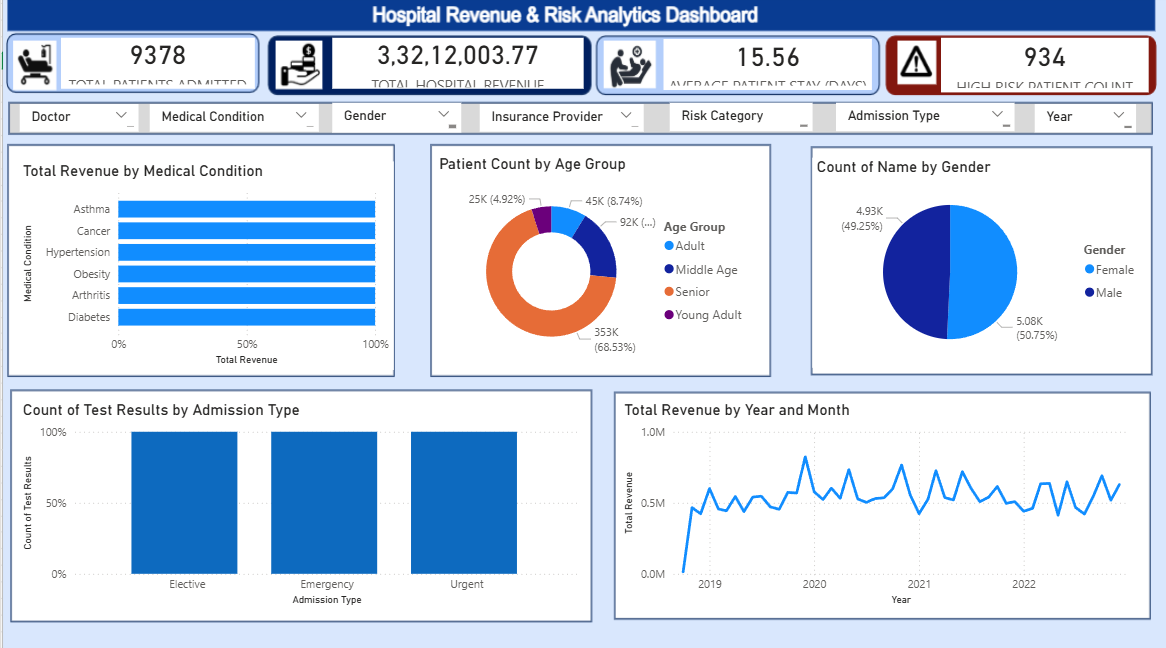

What the dashboard file says about the page in this screenshot:
{"tool":"powerbi","page":{"name":" Hospital Revenue & Risk Analytics Project _Dashboard","canvas":[1280,720],"ordinal":0},"visuals":[{"type":"card","fields":{"Values":["Count(Hospital_cleaned_dataset.  Name)"]},"box":[65.9,48,212.7,56.3],"z":0},{"type":"card","fields":{"Values":["Sum(Hospital_cleaned_dataset. Revenue Per Day)"]},"box":[363.6,48,275.8,56.3],"z":1000},{"type":"card","fields":{"Values":["Avg(Hospital_cleaned_dataset. Length of Stay)"]},"box":[727.3,49.4,229.2,56.3],"z":2000},{"type":"card","fields":{"Values":["Count(Hospital_cleaned_dataset)"]},"box":[1031.9,48,227.8,60.4],"z":3000},{"type":"slicer","fields":{"Values":["Hospital_cleaned_dataset.Doctor"]},"box":[20.6,120.8,130.4,30.2],"z":4000},{"type":"slicer","fields":{"Values":["Hospital_cleaned_dataset.Medical Condition"]},"box":[163.3,120.8,185.2,30.2],"z":5000},{"type":"slicer","fields":{"Values":["Hospital_cleaned_dataset.Gender"]},"box":[363.6,119.4,141.3,32.9],"z":6000},{"type":"slicer","fields":{"Values":["Hospital_cleaned_dataset.Insurance Provider"]},"box":[525.6,120.8,179.8,30.2],"z":7000},{"type":"slicer","fields":{"Values":["Hospital_cleaned_dataset.Risk Category"]},"box":[734.1,119.4,156.4,31.6],"z":8000},{"type":"slicer","fields":{"Values":["Hospital_cleaned_dataset.Admission Type"]},"box":[916.6,119.4,196.2,31.6],"z":9000},{"type":"hundredPercentStackedBarChart","fields":{"Category":["Hospital_cleaned_dataset.Medical Condition"],"Y":["Sum(Hospital_cleaned_dataset. Revenue Per Day)"]},"box":[19.2,183.9,411.7,229.2],"z":10000},{"type":"donutChart","fields":{"Category":["Hospital_cleaned_dataset.Age Group"],"Y":["Sum(Hospital_cleaned_dataset.Age)"]},"box":[476.2,175.6,351.3,237.4],"z":11000},{"type":"pieChart","fields":{"Category":["Hospital_cleaned_dataset.Gender"],"Y":["CountNonNull(Hospital_cleaned_dataset.  Name)"]},"box":[890.6,179.8,369.1,230.5],"z":12000},{"type":"hundredPercentStackedColumnChart","fields":{"Y":["CountNonNull(Hospital_cleaned_dataset.Test Results)"],"Category":["Hospital_cleaned_dataset.Admission Type"]},"box":[19.2,446,620.2,230.5],"z":13000},{"type":"lineChart","fields":{"Category":["Query1.Calender.Variation.Date Hierarchy.Year","Query1.Calender.Variation.Date Hierarchy.Month"],"Y":["Sum(Hospital_cleaned_dataset. Revenue Per Day)"]},"box":[679.2,446,566.7,230.5],"z":14000},{"type":"slicer","fields":{"Values":["Query1.Calender.Variation.Date Hierarchy.Year"]},"box":[1134.8,120.8,111.1,31.6],"z":15000}]}

Visuals, with their boxes in screenshot pixels (x1, y1, x2, y2), scaled from the page's 1280x720 canvas onto the 1166x648 screenshot:
card - Count(Hospital_cleaned_dataset.  Name): Rect(60, 43, 254, 94)
card - Sum(Hospital_cleaned_dataset. Revenue Per Day): Rect(331, 43, 582, 94)
card - Avg(Hospital_cleaned_dataset. Length of Stay): Rect(663, 44, 871, 95)
card - Count(Hospital_cleaned_dataset): Rect(940, 43, 1148, 98)
slicer - Hospital_cleaned_dataset.Doctor: Rect(19, 109, 138, 136)
slicer - Hospital_cleaned_dataset.Medical Condition: Rect(149, 109, 317, 136)
slicer - Hospital_cleaned_dataset.Gender: Rect(331, 107, 460, 137)
slicer - Hospital_cleaned_dataset.Insurance Provider: Rect(479, 109, 643, 136)
slicer - Hospital_cleaned_dataset.Risk Category: Rect(669, 107, 811, 136)
slicer - Hospital_cleaned_dataset.Admission Type: Rect(835, 107, 1014, 136)
hundredPercentStackedBarChart - Hospital_cleaned_dataset.Medical Condition x Sum(Hospital_cleaned_dataset. Revenue Per Day): Rect(17, 166, 393, 372)
donutChart - Hospital_cleaned_dataset.Age Group x Sum(Hospital_cleaned_dataset.Age): Rect(434, 158, 754, 372)
pieChart - Hospital_cleaned_dataset.Gender x CountNonNull(Hospital_cleaned_dataset.  Name): Rect(811, 162, 1148, 369)
hundredPercentStackedColumnChart - CountNonNull(Hospital_cleaned_dataset.Test Results) x Hospital_cleaned_dataset.Admission Type: Rect(17, 401, 582, 609)
lineChart - Query1.Calender.Variation.Date Hierarchy.Year x Query1.Calender.Variation.Date Hierarchy.Month: Rect(619, 401, 1135, 609)
slicer - Query1.Calender.Variation.Date Hierarchy.Year: Rect(1034, 109, 1135, 137)
